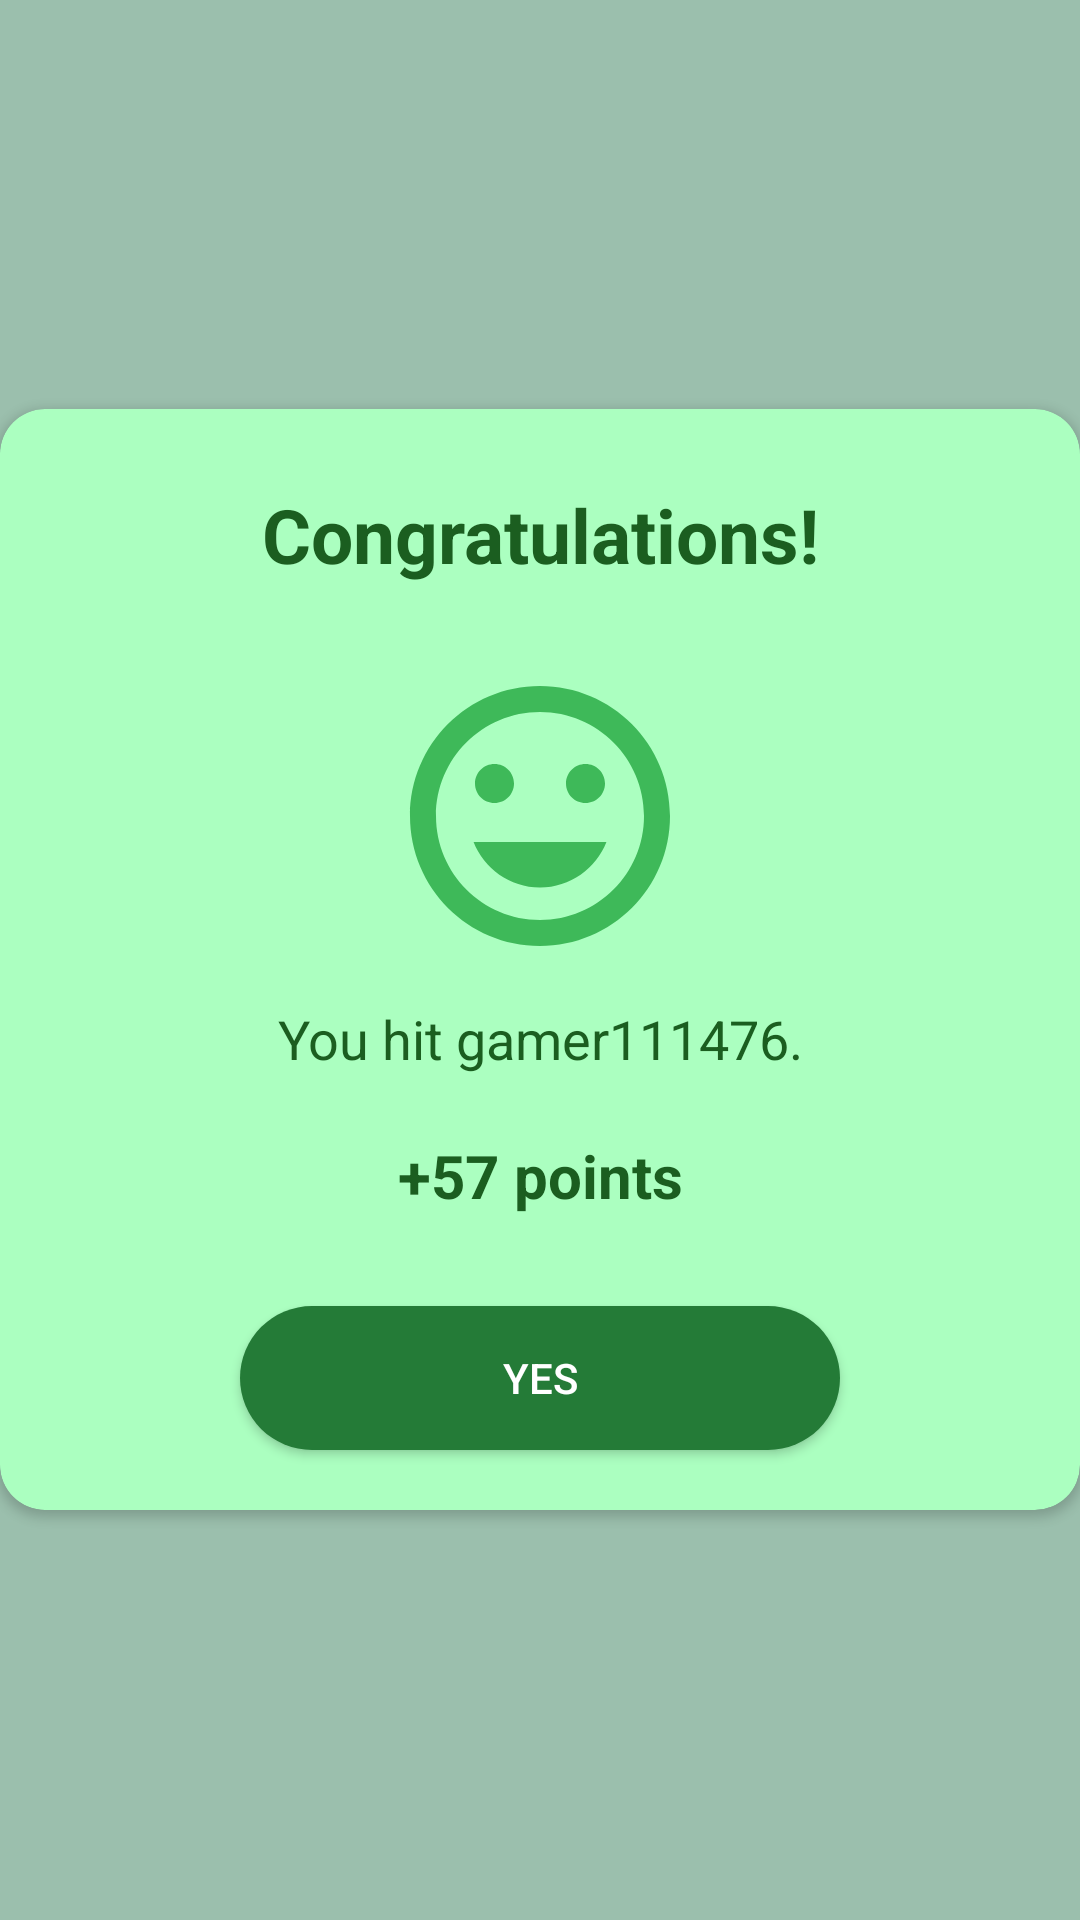

Icon bounding boxes for this 1080px x 1920px phone screenshot, format Rect(x1, y1, x2, y2):
mood: Rect(410, 686, 670, 946)
